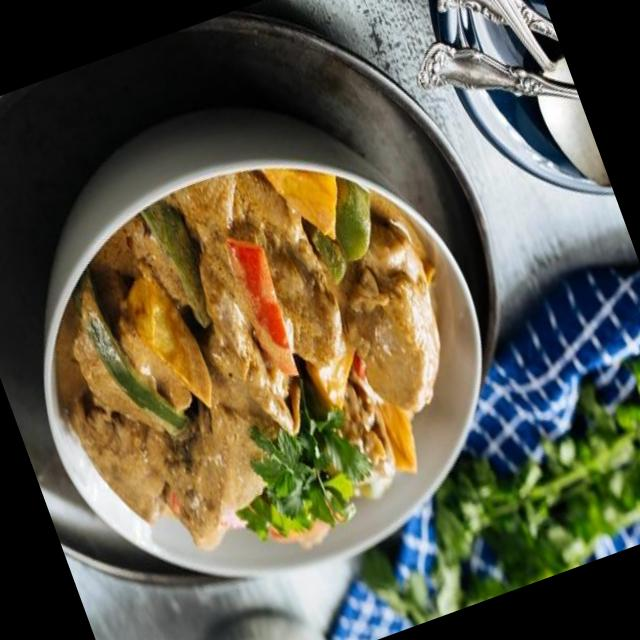chicken: (19, 144, 510, 599)
